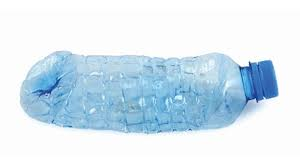HDPE Cap: (259, 61, 276, 97)
PET Bottle: (20, 51, 279, 135)
